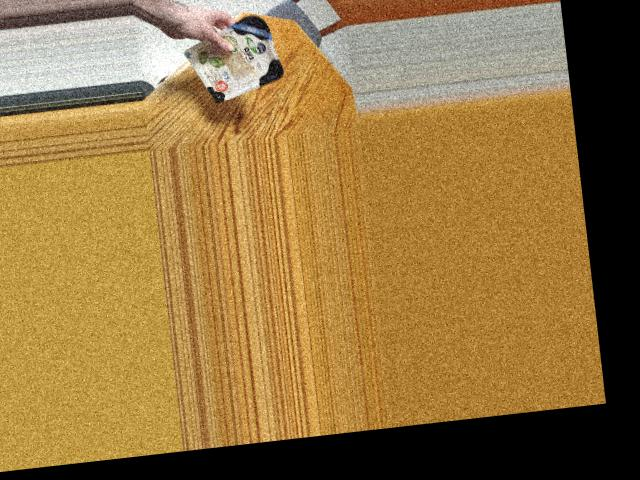cheese: (195, 9, 288, 102)
